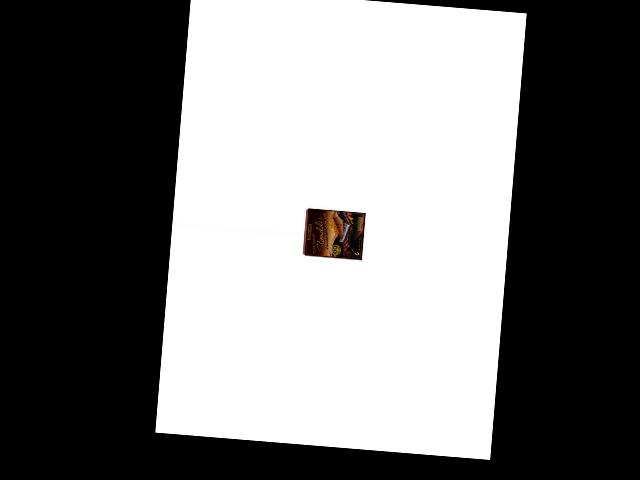chocolate: (302, 208, 366, 260)
